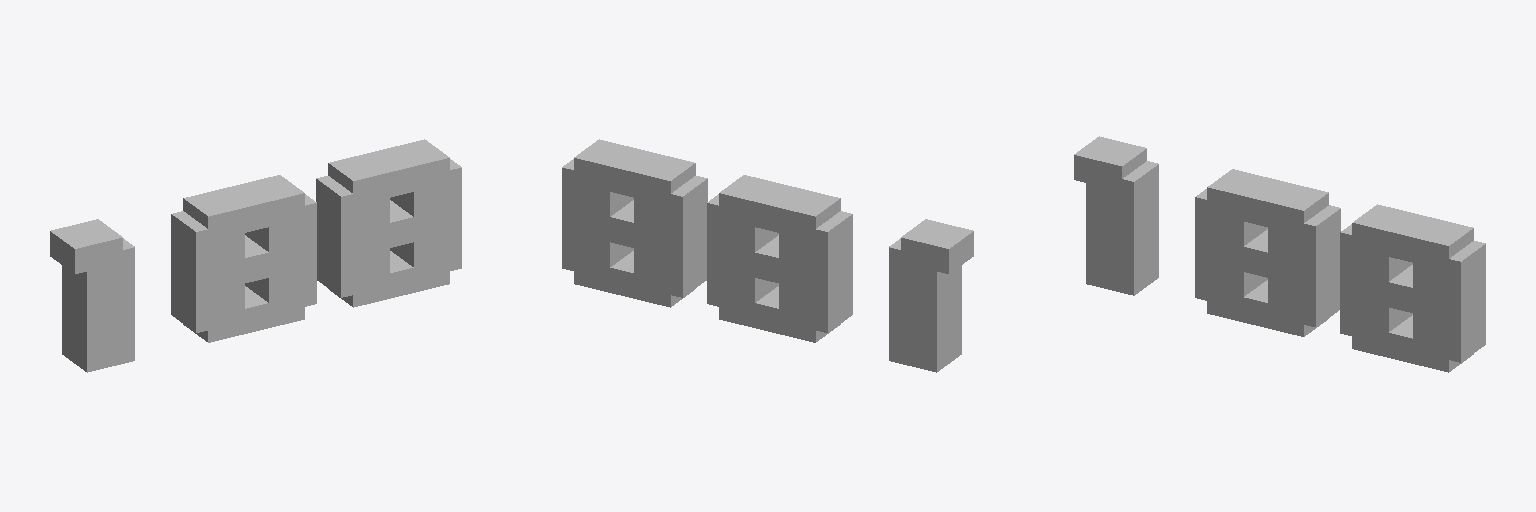
3 renders of one model, left to right at view 1: azimuth 30°, elevation 25°; view 2: azimuth 150°, elevation 25°; view 3: azimuth 330°, elevation 25°, orthographic.
Visible parts, largest first — view 1: テキスト.001, テキスト, テキスト.002; view 2: テキスト.001, テキスト, テキスト.002; view 3: テキスト, テキスト.001, テキスト.002.
Part boxes in pixels (x1,y1,x2,y2): テキスト.001: (171, 175, 316, 342); テキスト: (316, 139, 461, 307); テキスト.002: (50, 219, 134, 372); テキスト.001: (707, 175, 852, 342); テキスト: (562, 139, 707, 307); テキスト.002: (889, 219, 973, 372); テキスト: (1340, 204, 1485, 372); テキスト.001: (1195, 169, 1340, 336); テキスト.002: (1074, 136, 1158, 295).
Size of the model in its own units: 2.67 by 0.8333 by 0.3.